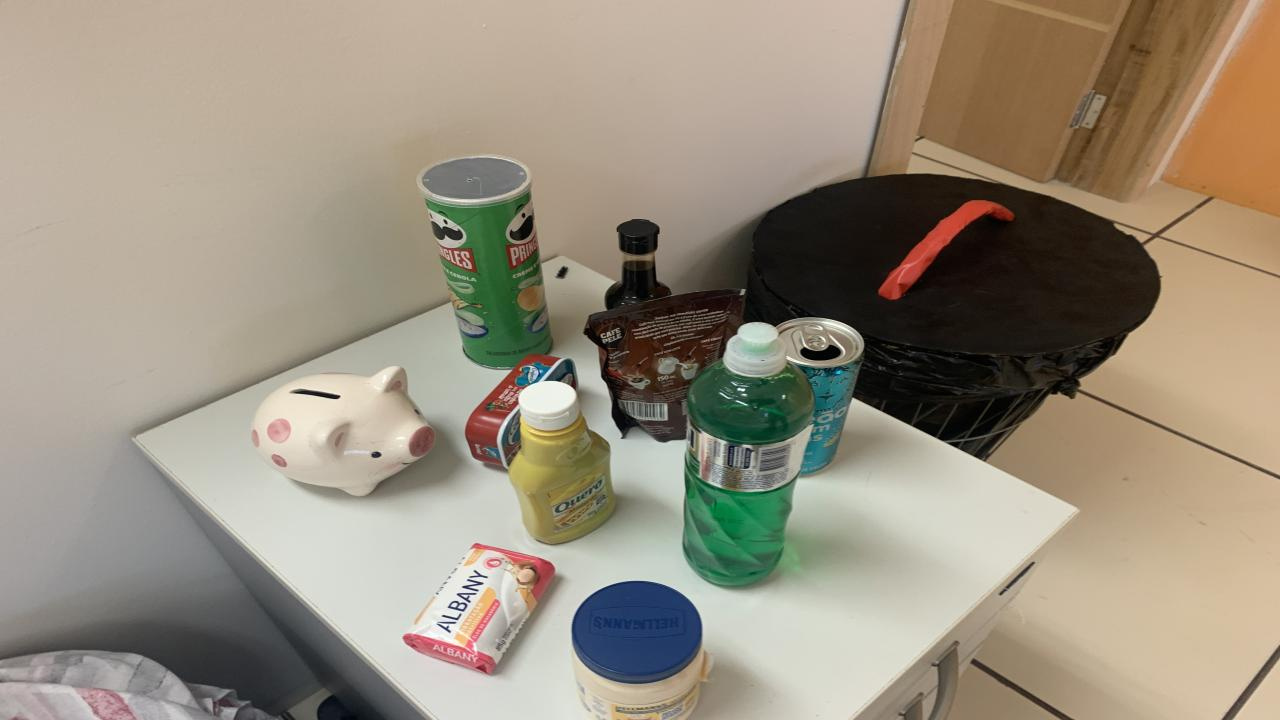Coffee-Pantry_Items: (585, 289, 745, 442)
Detergent-Cleanup_Items: (682, 322, 815, 585)
English_Sauce-Pantry_Items: (605, 219, 670, 309)
Mayonnaise-Pantry_Items: (572, 581, 712, 720)
Mustard-Pantry_Items: (510, 381, 615, 544)
Pig_Safe-Miscellaneous: (250, 366, 435, 497)
Pringles-Snacks: (418, 154, 552, 369)
Soap-Cleanup_Items: (402, 544, 555, 673)
Tea-Drinks: (778, 317, 865, 474)
Tuna_Can-Pantry_Items: (465, 354, 578, 469)
